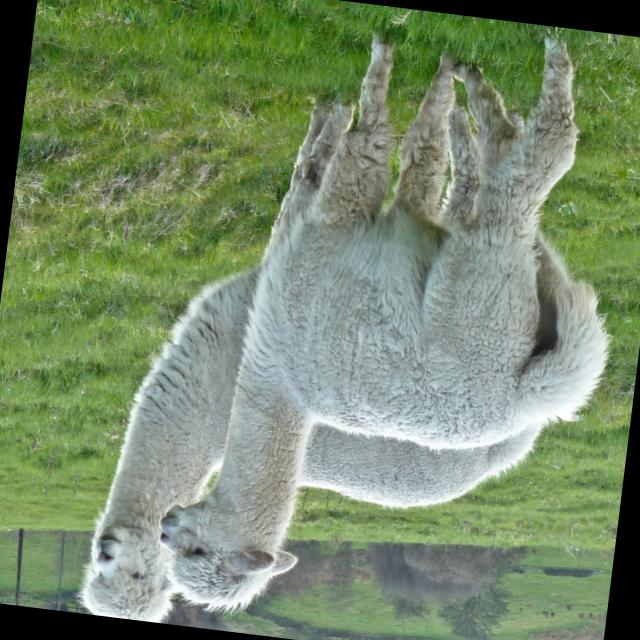alpaca: (153, 0, 638, 640), (76, 75, 579, 640)
